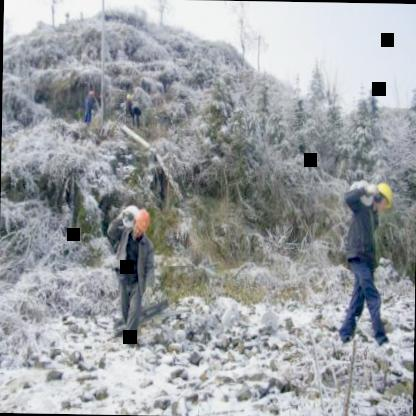helmet: (370, 180, 392, 215), (131, 207, 150, 238)
